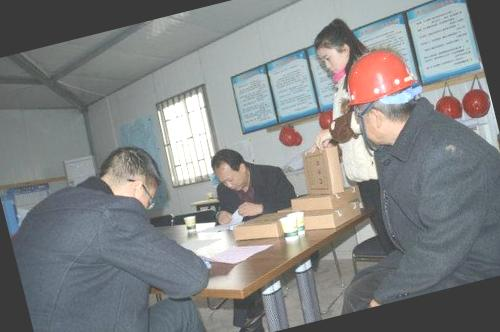no_helmet: (88, 133, 171, 214), (306, 10, 369, 82), (205, 142, 254, 196)
